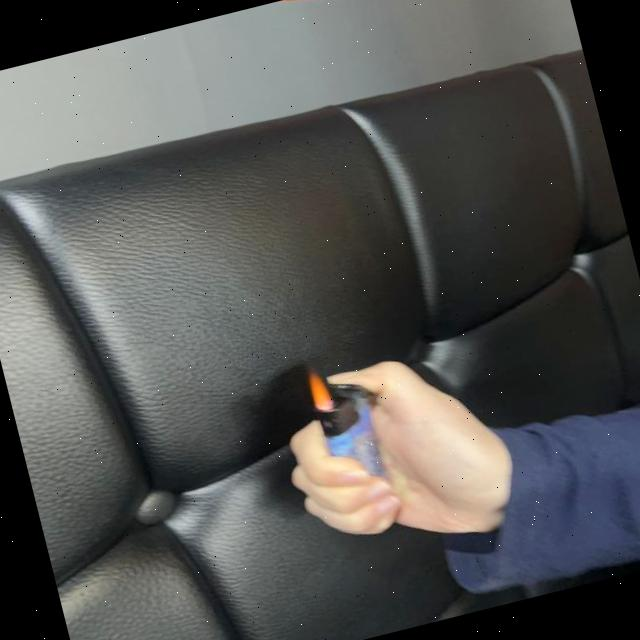fire: (306, 364, 338, 414)
